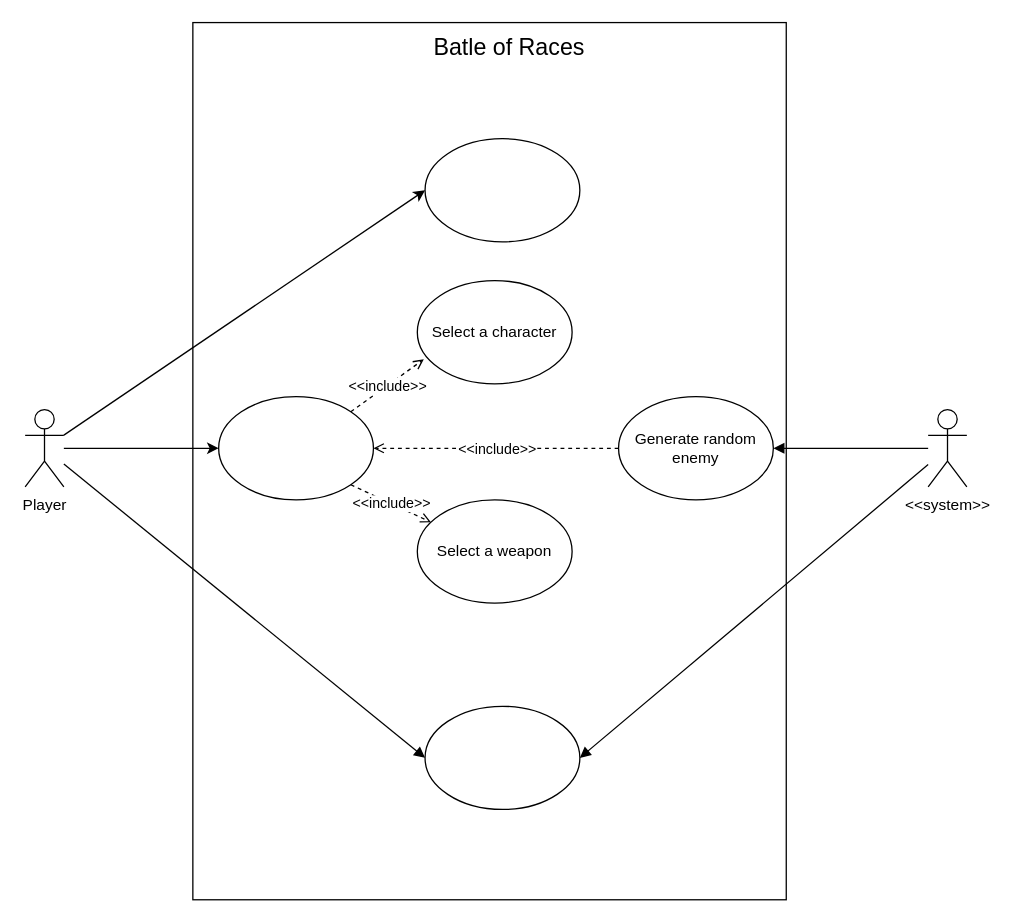
The diagram is 1011 pixels wide and 922 high, and some of its shapes have lost their labels. Here are the shapes that lost their labels. From the top down, the centre of each, then its label:
At point (502, 189): "Start the game".
At point (295, 447): "Create a character".
At point (502, 757): "Fight".
